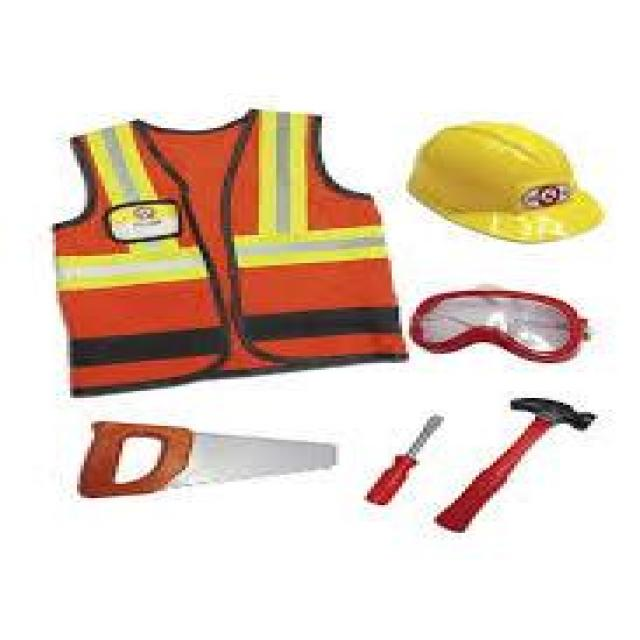Reflective-Jacket: (42, 107, 420, 396)
Safety-Helmet: (395, 112, 609, 244)
